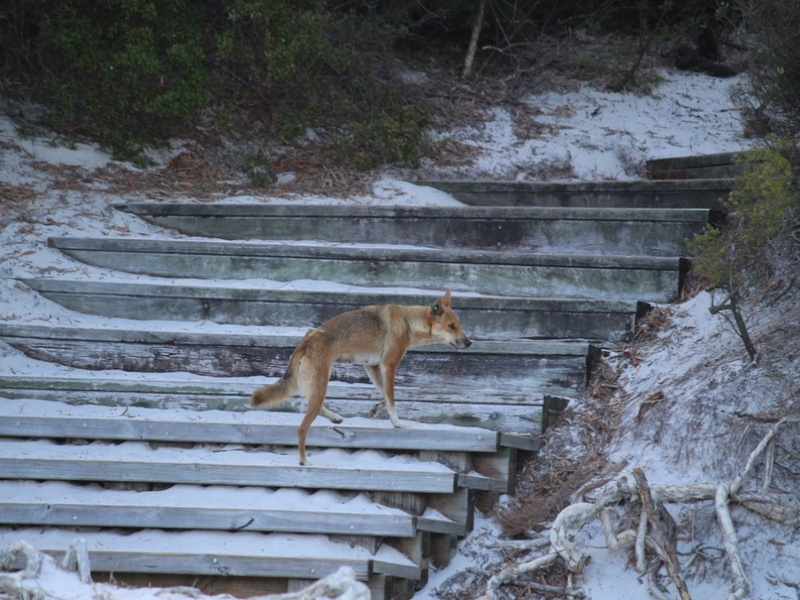dog: (253, 287, 473, 473)
